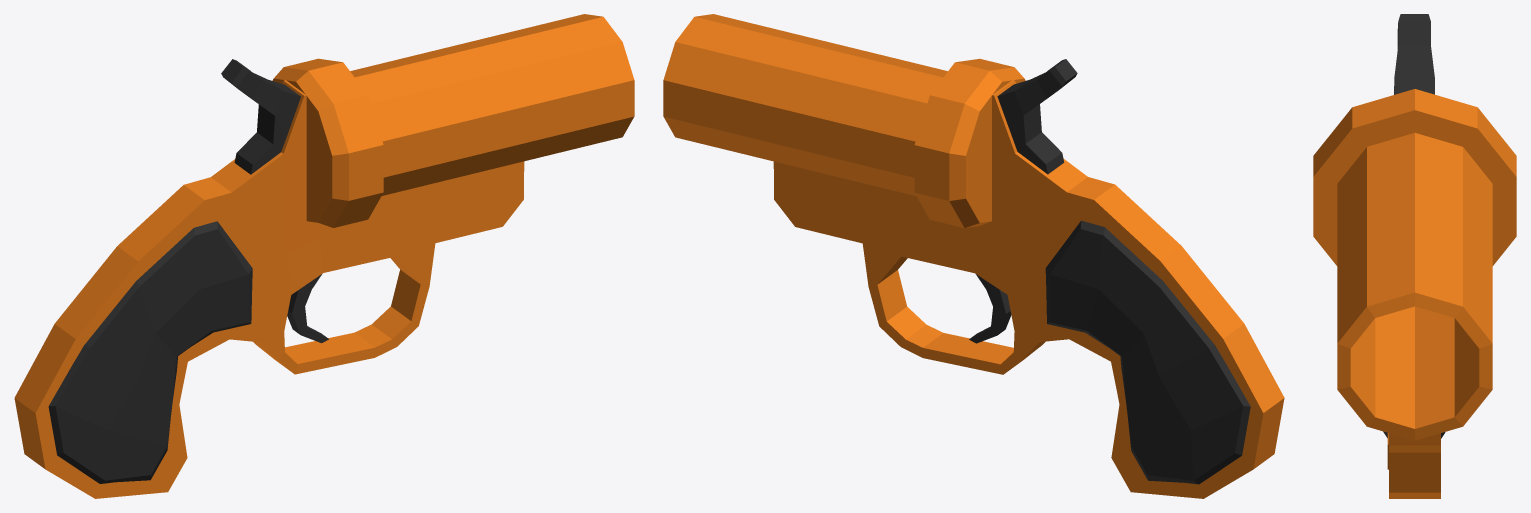
File: lance_fusee.glb
3 renders of one model, left to right at view 1: azimuth 30°, elevation 25°; view 2: azimuth 150°, elevation 25°; view 3: azimuth 270°, elevation 25°, orthographic. The views are drawn at different scales.
Parts seen in each view (by area): view 1: FlareGun; view 2: FlareGun; view 3: FlareGun.
Part boxes in pixels (box(x1,y1,x2,y2)): FlareGun: box(14, 14, 634, 498); FlareGun: box(663, 14, 1284, 498); FlareGun: box(1313, 14, 1516, 498).
Size of the model in its own units: 2.51 by 1.66 by 0.6033.
